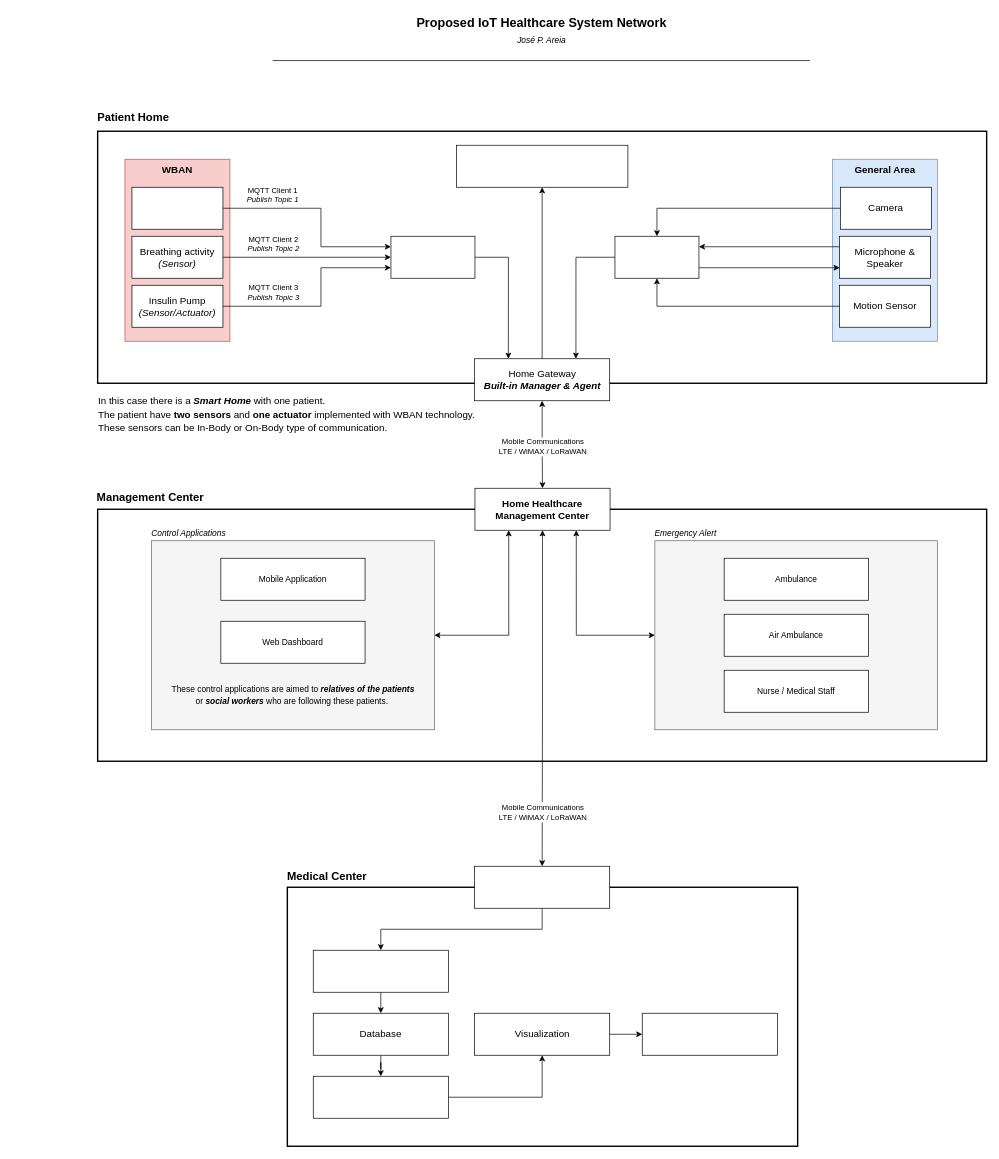
Some shapes in this 999 by 1159 pixel diagram are drawn without their labels. The centre of each missing label's shape, as x and y in pixels:
Analytics: (x=380, y=1097)
CoAP Server: (x=656, y=257)
Doctor: (x=709, y=1034)
ECG & Heart Rate (Sensor): (x=177, y=208)
Medical Gateway: (x=542, y=887)
Medical Server: (x=380, y=971)
MQTT Broker: (x=432, y=257)
Personal Digital Assitant Web Dashboard / Mobile Application: (x=542, y=166)
